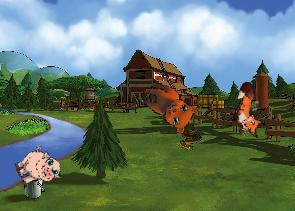bear: (133, 78, 201, 137)
fox: (227, 80, 274, 139)
pig: (10, 142, 64, 194)
